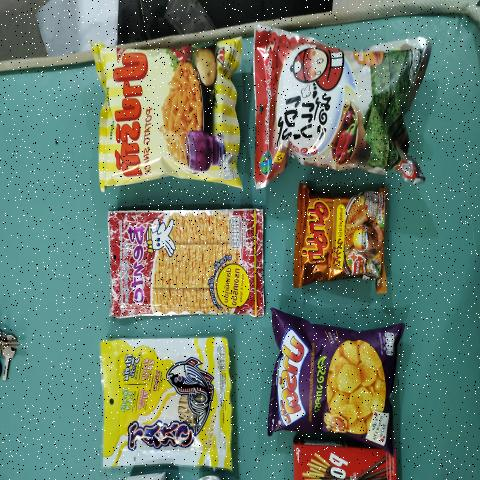bento_red: (117, 213, 261, 314)
mama: (296, 191, 382, 284)
paprika: (114, 57, 234, 176)
party_purple: (280, 324, 384, 437)
taokaenoi: (262, 44, 414, 172)
taro_yellow: (107, 340, 226, 462)
